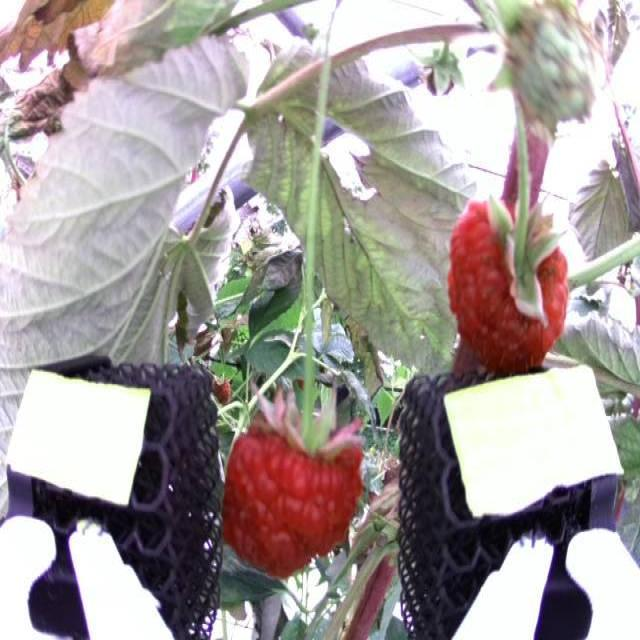Riped berries: (221, 398, 367, 574), (448, 193, 568, 362)
